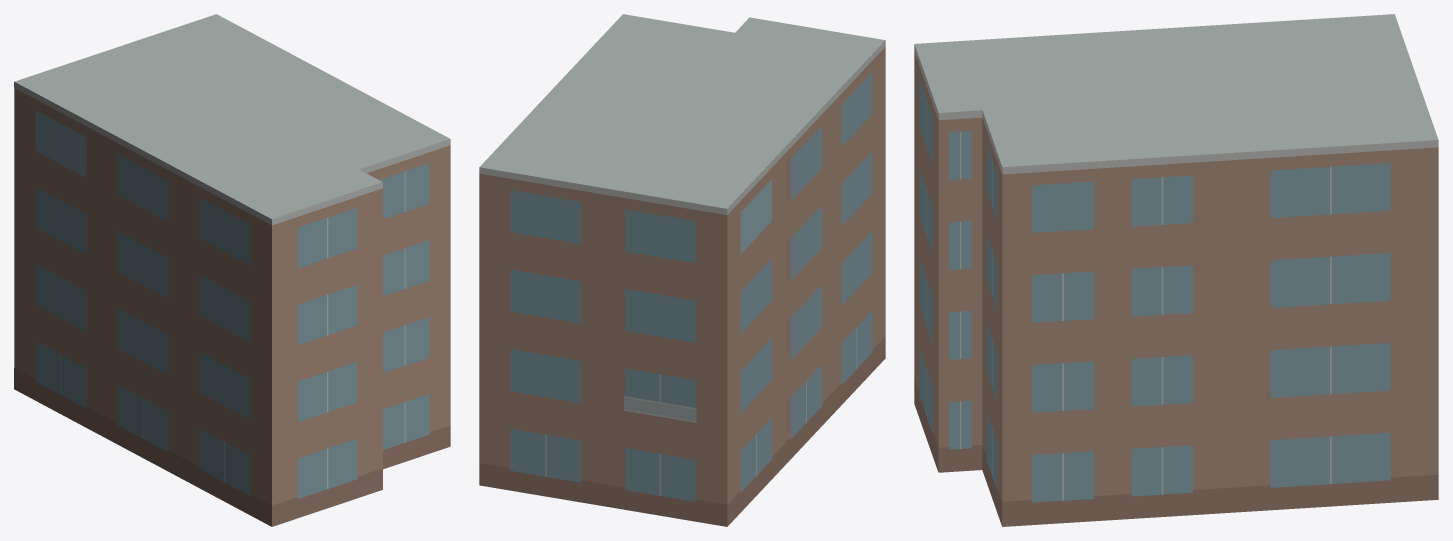
Rendered from residential-ed7de240-37f1-4eb2-a98e-03bc7fd03150.glb.
3 renders of one model, left to right at view 1: azimuth 30°, elevation 25°; view 2: azimuth 150°, elevation 25°; view 3: azimuth 270°, elevation 25°, orthographic. The views are drawn at different scales.
Visible parts, largest first — view 1: residential-ed7de240-37f1-4eb2-a98e-03bc7fd03150.tmp; view 2: residential-ed7de240-37f1-4eb2-a98e-03bc7fd03150.tmp; view 3: residential-ed7de240-37f1-4eb2-a98e-03bc7fd03150.tmp.
Boxes of the visible parts, x1,y1,x2,y2 form: residential-ed7de240-37f1-4eb2-a98e-03bc7fd03150.tmp: (14,14,450,526); residential-ed7de240-37f1-4eb2-a98e-03bc7fd03150.tmp: (479,14,885,526); residential-ed7de240-37f1-4eb2-a98e-03bc7fd03150.tmp: (914,14,1438,526).
Bounding box in the file's own units: 11.16 × 12.2 × 16.13.
